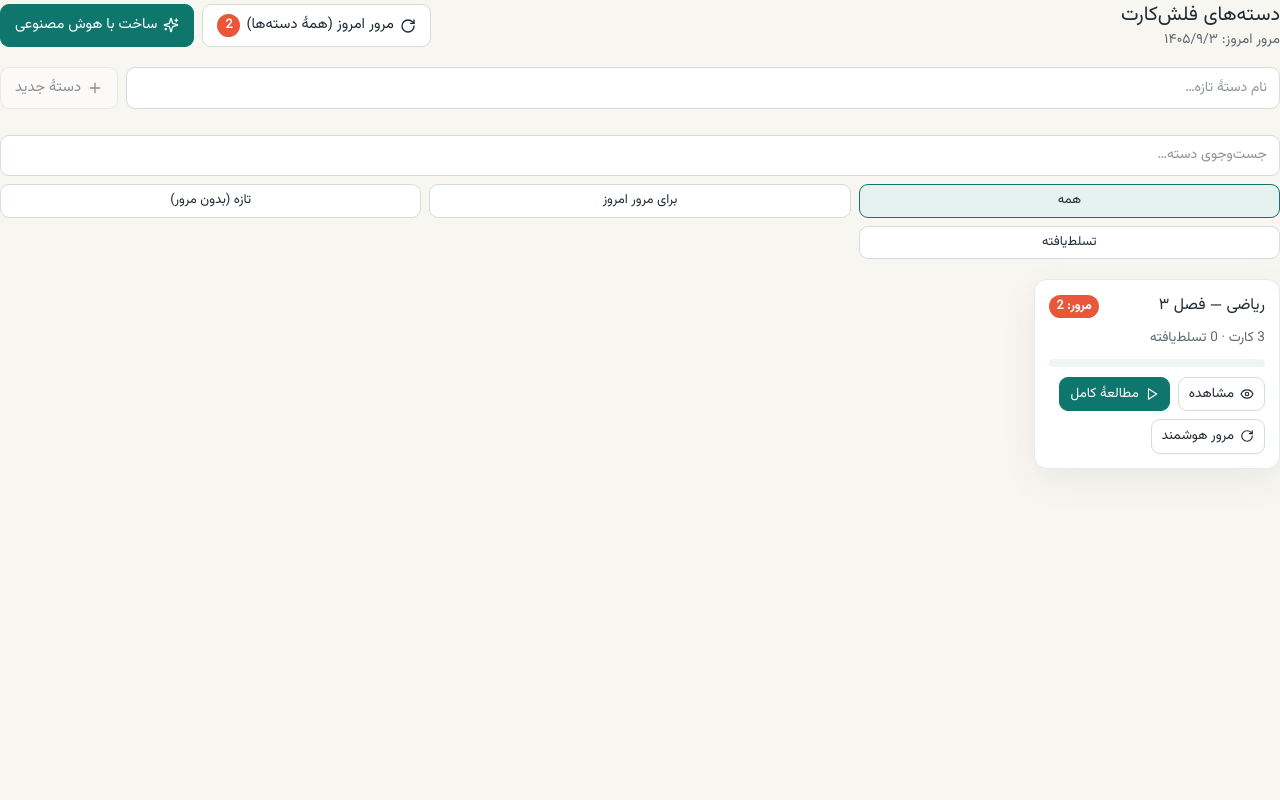
Test: FlashcardsWorkspace — Phase 03 library, card details, generation preview › reports a card issue once and treats a duplicate open report as 409
Click the button "مشاهده": (1221, 394) [1178,377,1265,411]
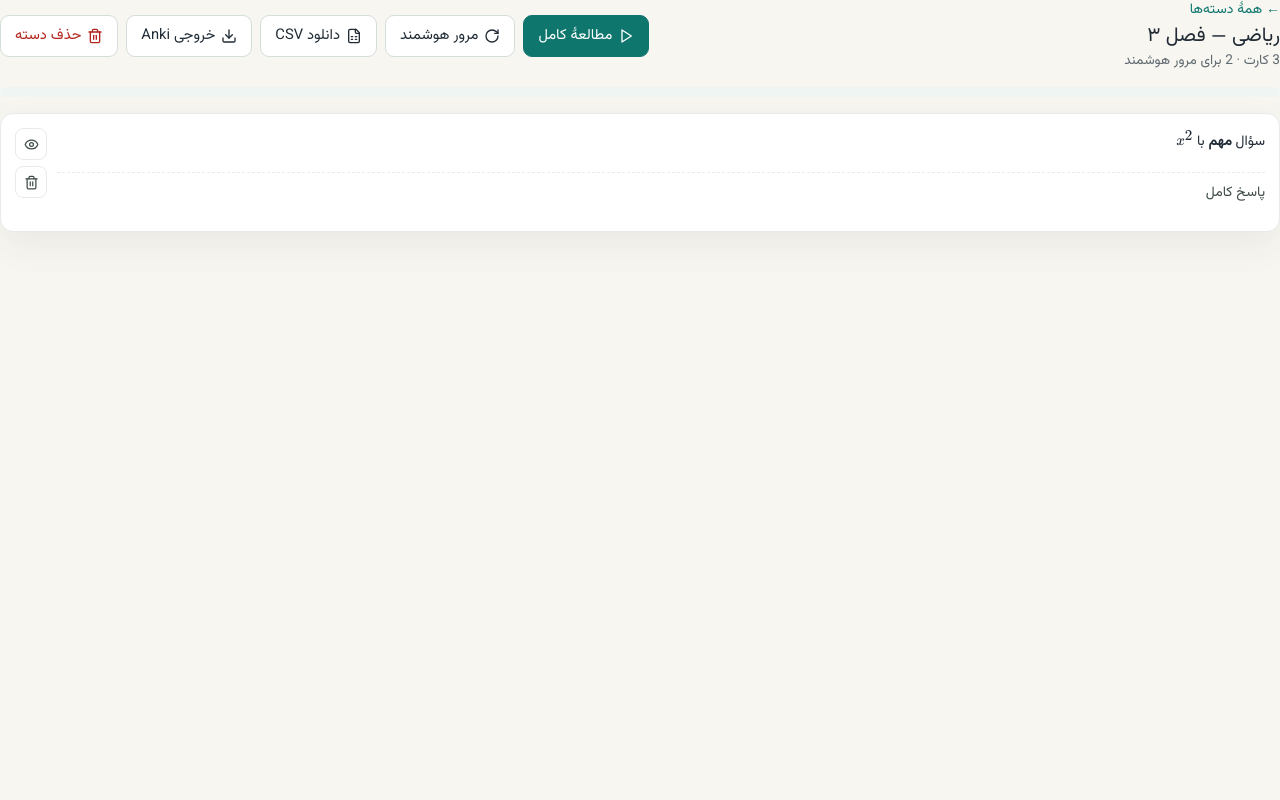
Click the button named "جزئیات کارت": (31, 144) [15,128,47,160]
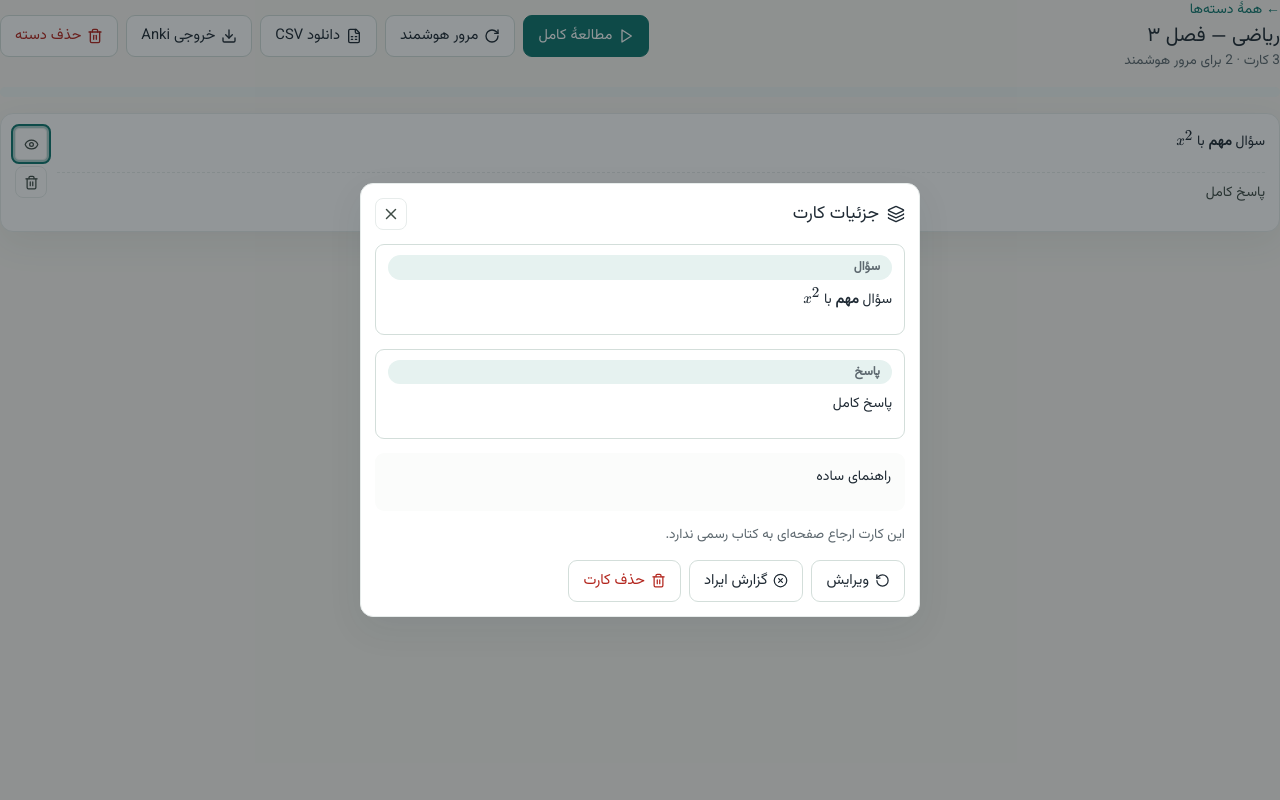
Click the button "گزارش ایراد": (746, 581) [689,560,804,602]
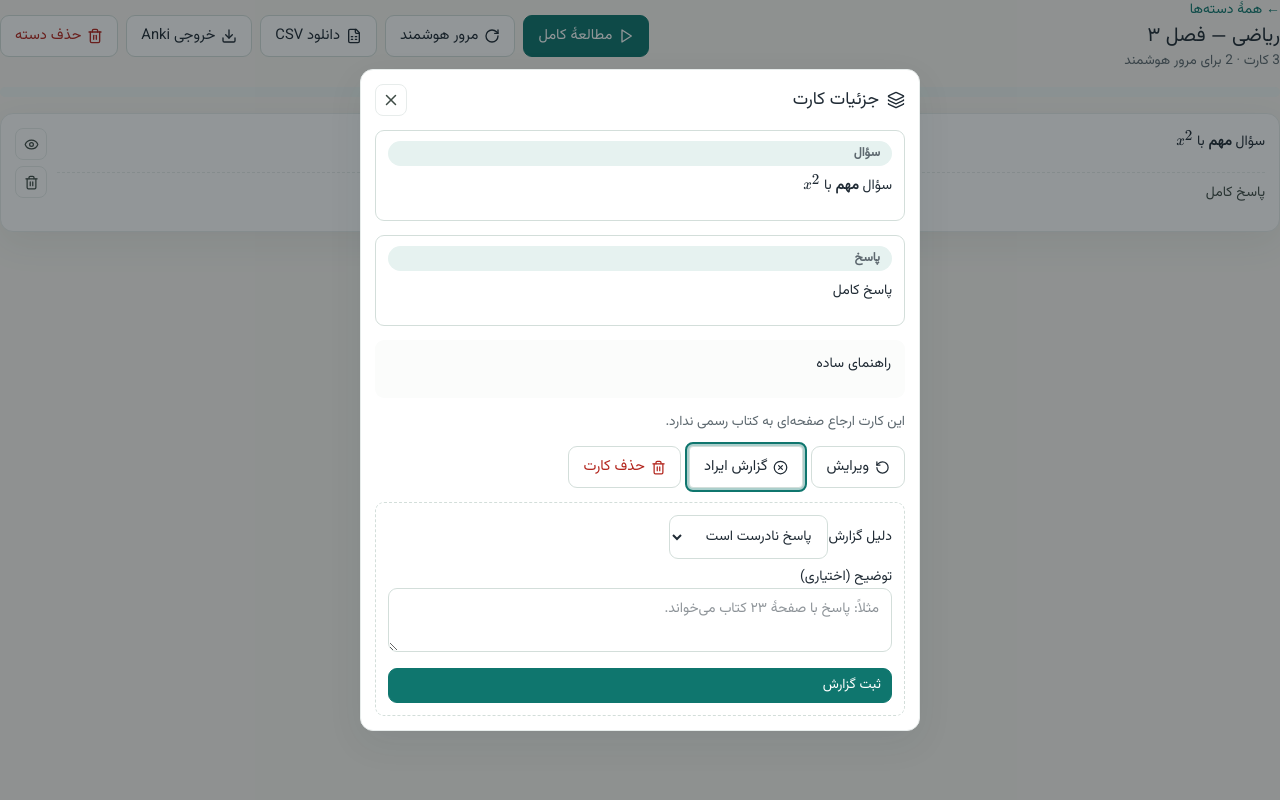
Select "از کتاب رسمی نیست" in the dropdown labelled "دلیل گزارش": (749, 537) [669,515,828,559]
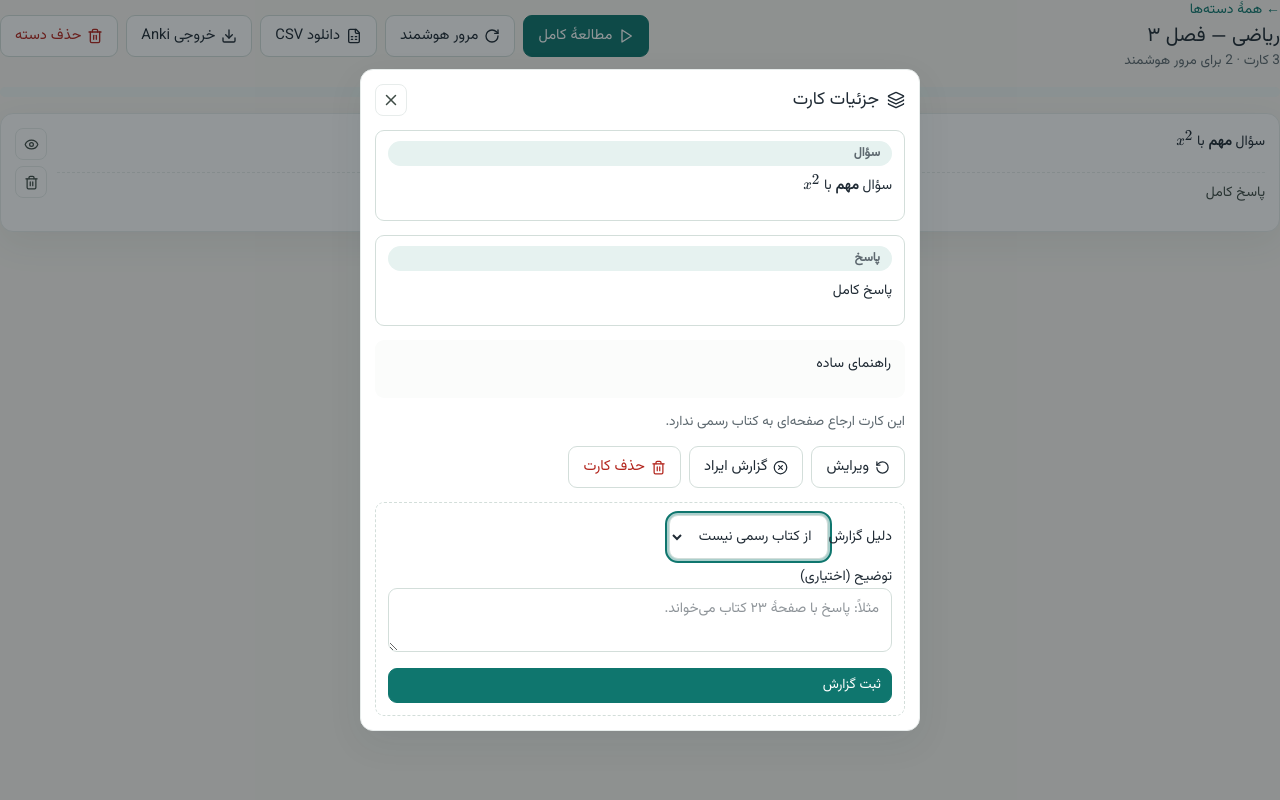
In the text box labelled "توضیح (اختیاری)": (640, 620) [388,588,892,652], type "این پاسخ از کتاب نیست"
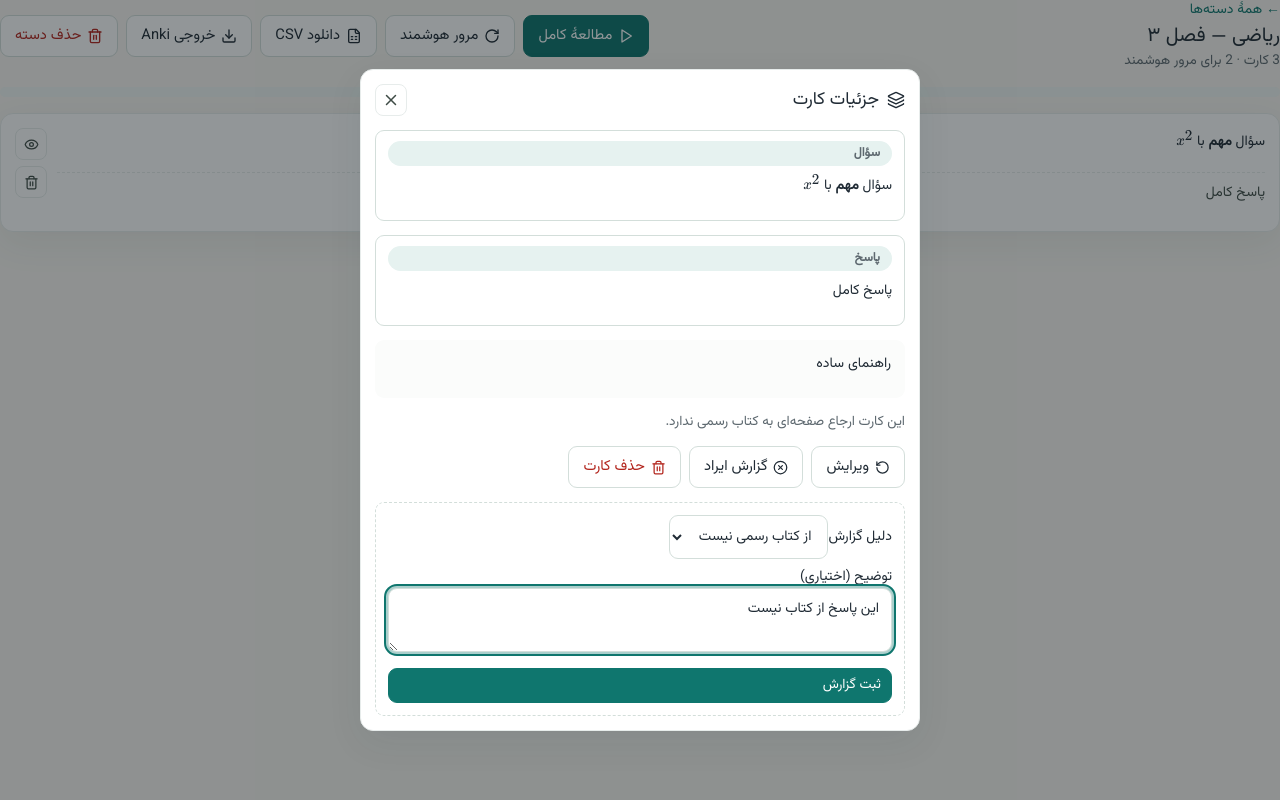
Click the button "ثبت گزارش": (852, 685) [388,668,892,703]
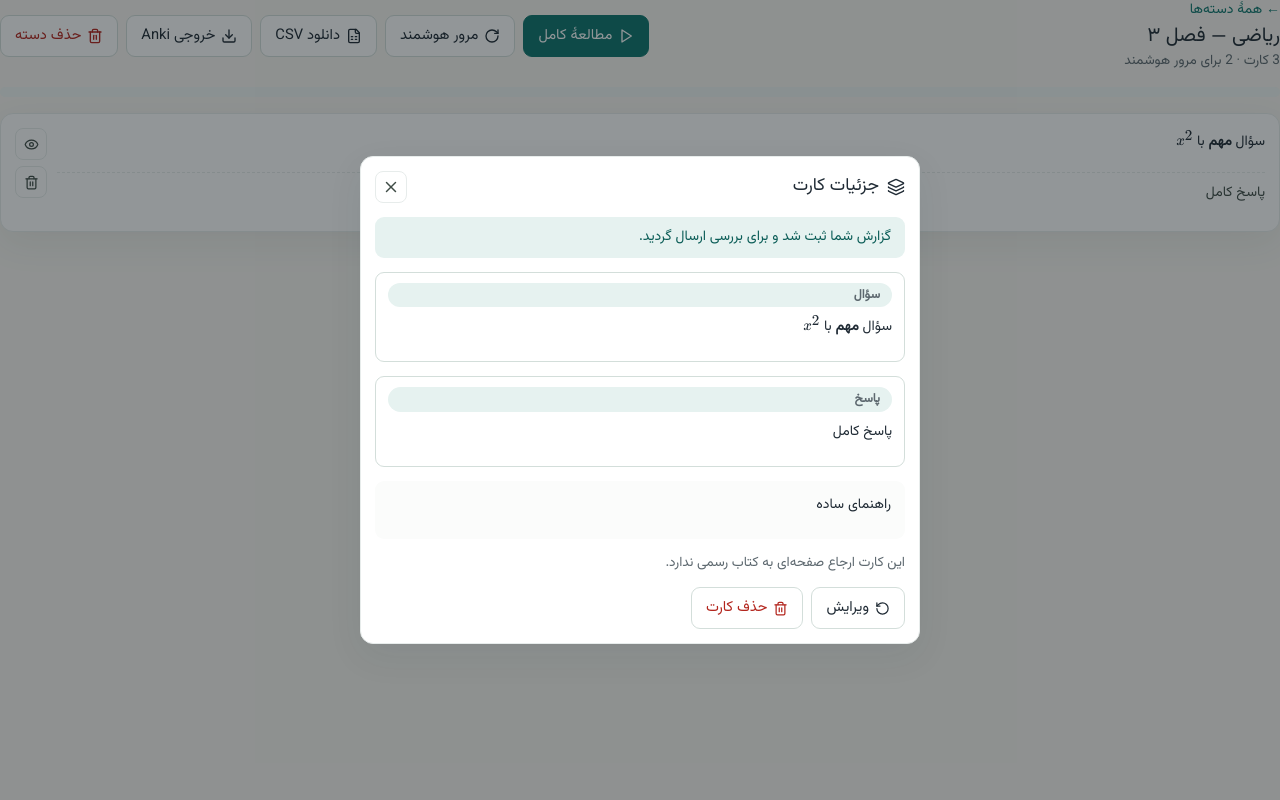
Expected: the text "گزارش شما ثبت شد و برای بررسی ارسال گردید." is shown, [375,216,905,258]
Expected: the button "گزارش ایراد" is gone
